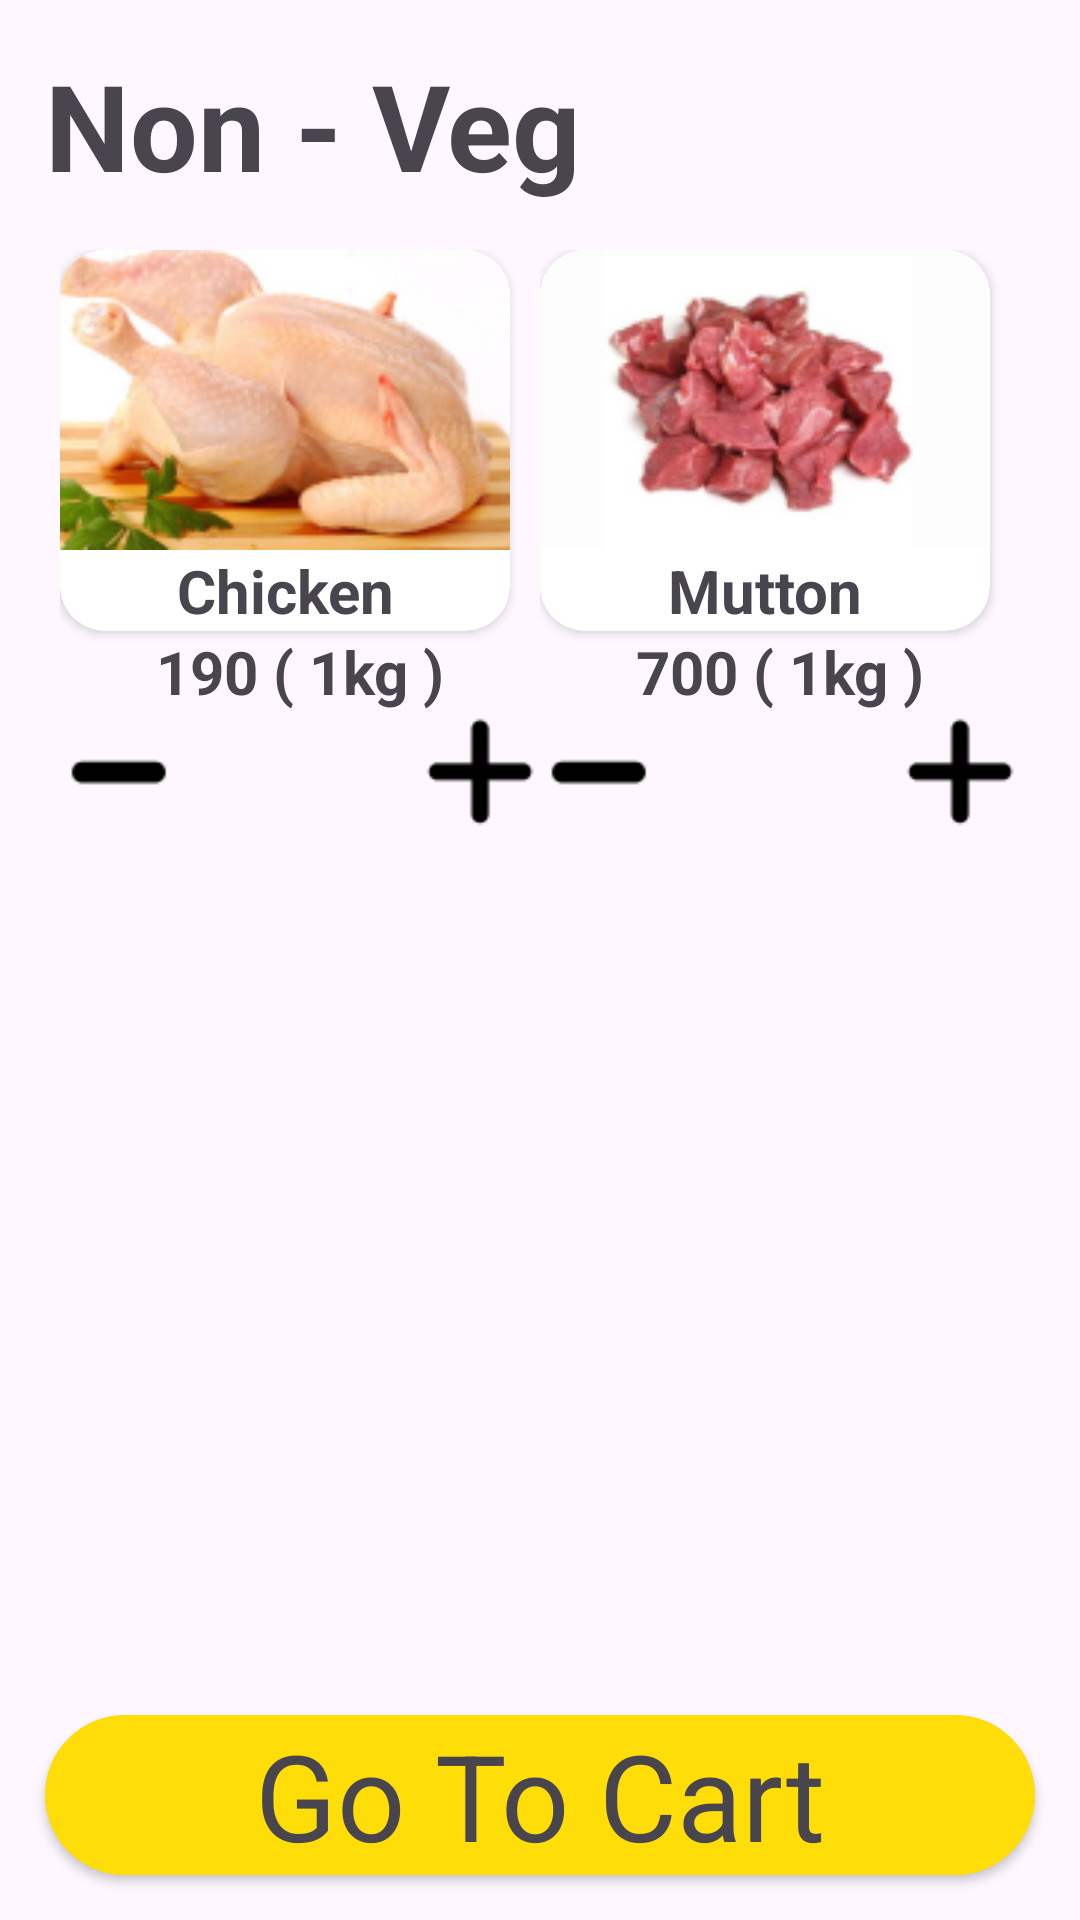

Where to tap for icons on this 1080px×1920px app screen, as point (x, y):
add: point (480, 772), point (960, 772)
minus: point (119, 772), point (599, 772)
